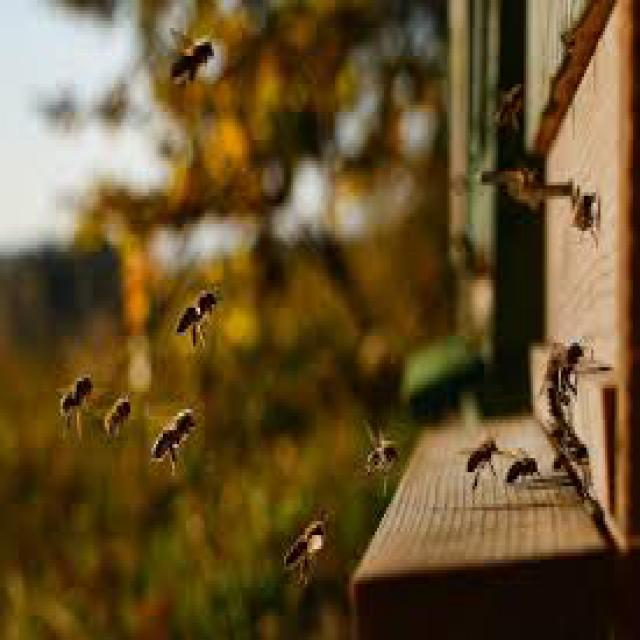Abeille: (154, 393, 215, 479), (164, 12, 229, 81), (278, 513, 337, 589), (171, 280, 229, 346), (449, 430, 508, 491), (360, 416, 404, 492), (500, 444, 548, 502), (538, 341, 571, 422), (58, 365, 98, 426)
